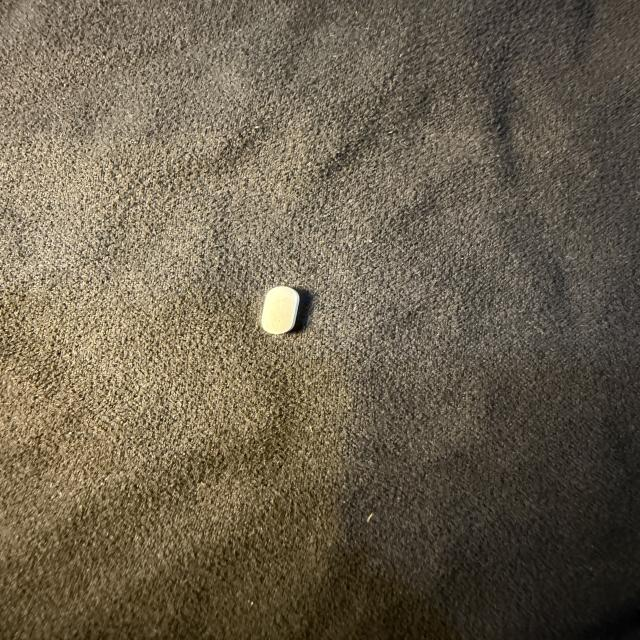pill: (262, 287, 299, 334)
